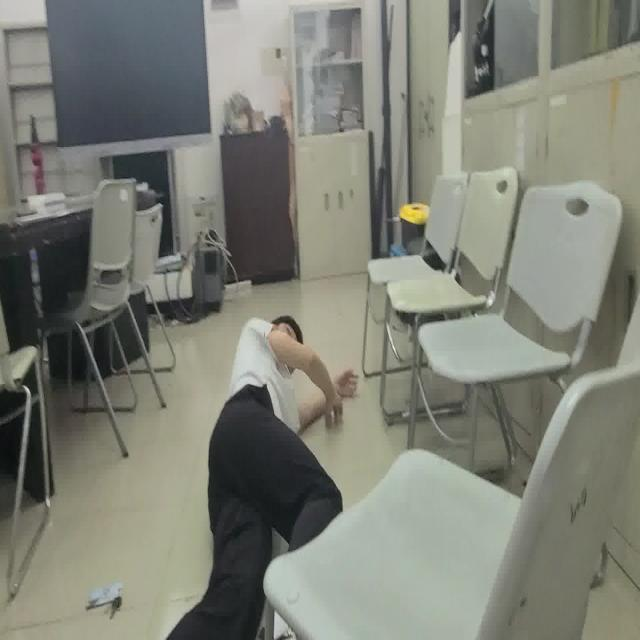Fall-Detected: (158, 314, 358, 640)
